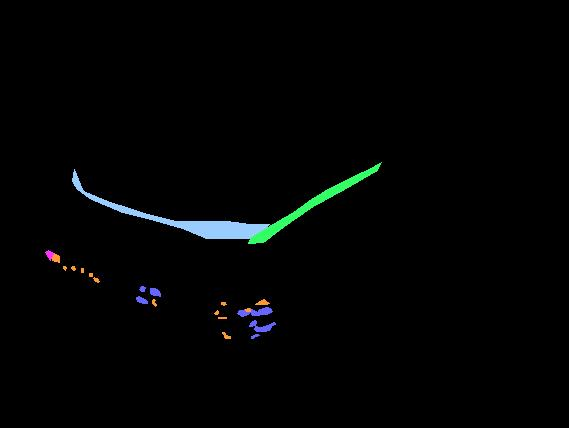Broken part: (248, 162, 381, 243)
Corrosion: (72, 169, 269, 238)
Dent: (45, 250, 53, 260)
Paint chip: (255, 299, 269, 304), (52, 252, 59, 262), (93, 277, 99, 282), (152, 299, 156, 306), (224, 334, 230, 338), (214, 310, 218, 314), (71, 266, 75, 270), (221, 302, 226, 305), (245, 308, 250, 311), (63, 266, 66, 270), (89, 273, 92, 276), (218, 317, 226, 318), (81, 268, 83, 272), (222, 332, 225, 334)
Scratch: (237, 307, 272, 316), (254, 322, 275, 331), (150, 288, 160, 296), (136, 296, 147, 303), (249, 320, 256, 326), (251, 334, 259, 338), (139, 286, 145, 291)
